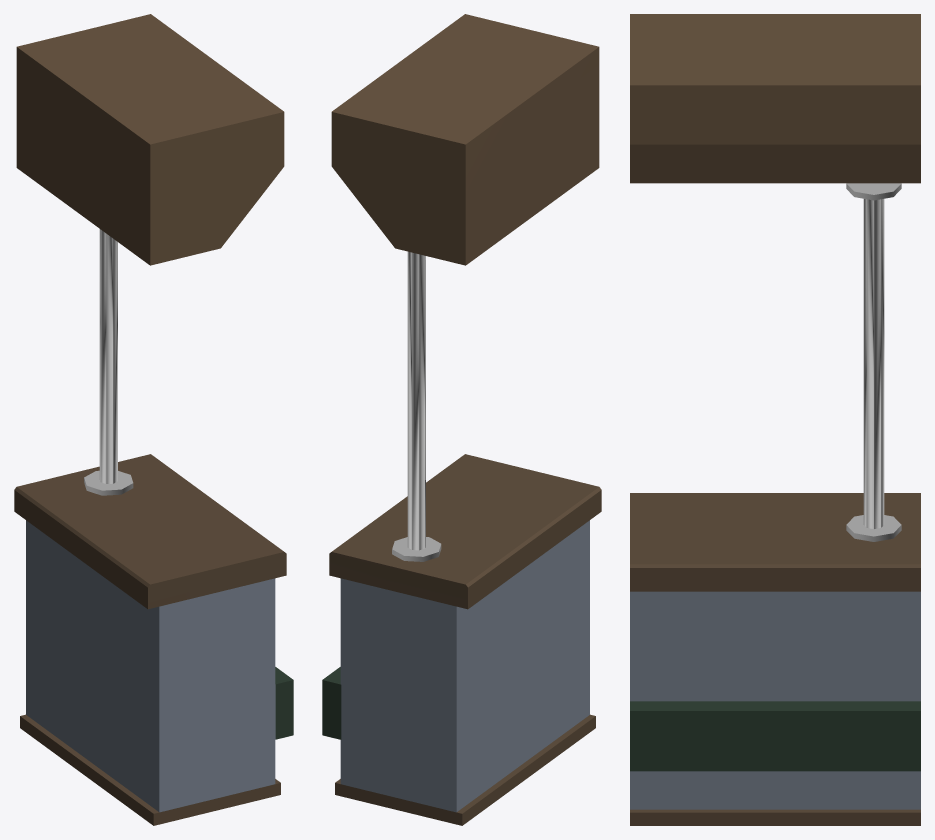
Rendered from SM_receptionCounter_03.glb.
3 views of the same model, side by side, from view 1: azimuth 30°, elevation 25°; view 2: azimuth 150°, elevation 25°; view 3: azimuth 270°, elevation 25° (orthographic). The views are drawn at different scales.
Visible parts, largest first — view 1: SM_receptionCounter_03; view 2: SM_receptionCounter_03; view 3: SM_receptionCounter_03.
Boxes of the visible parts, left/top/right/bottom form: SM_receptionCounter_03: left=14, top=14, right=293, bottom=825; SM_receptionCounter_03: left=322, top=14, right=601, bottom=825; SM_receptionCounter_03: left=630, top=14, right=920, bottom=825.
Bounding box in the file's own units: 0.6299 × 2.82 × 1.
Materials: 1 (1 with a texture image).
